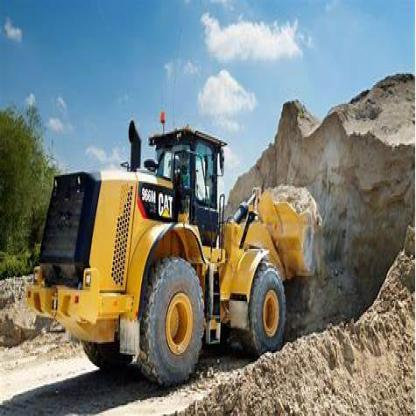bull_dozer/loader/grader: (21, 101, 336, 394)
